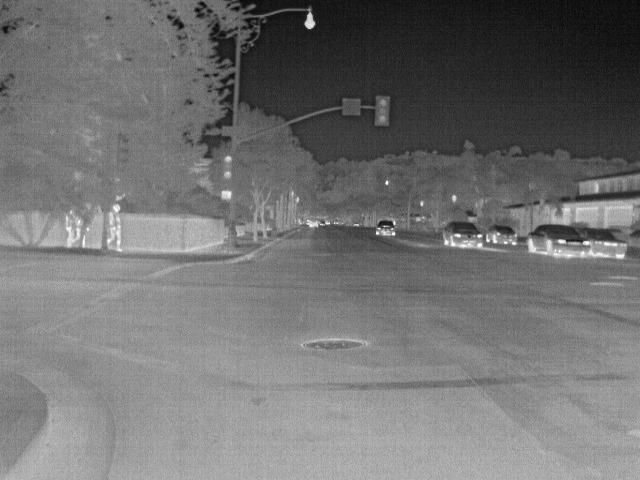car: (526, 223, 590, 258), (580, 226, 630, 261), (441, 220, 485, 250), (486, 225, 518, 247), (373, 220, 397, 239)
person: (105, 203, 124, 254), (63, 210, 78, 248)
